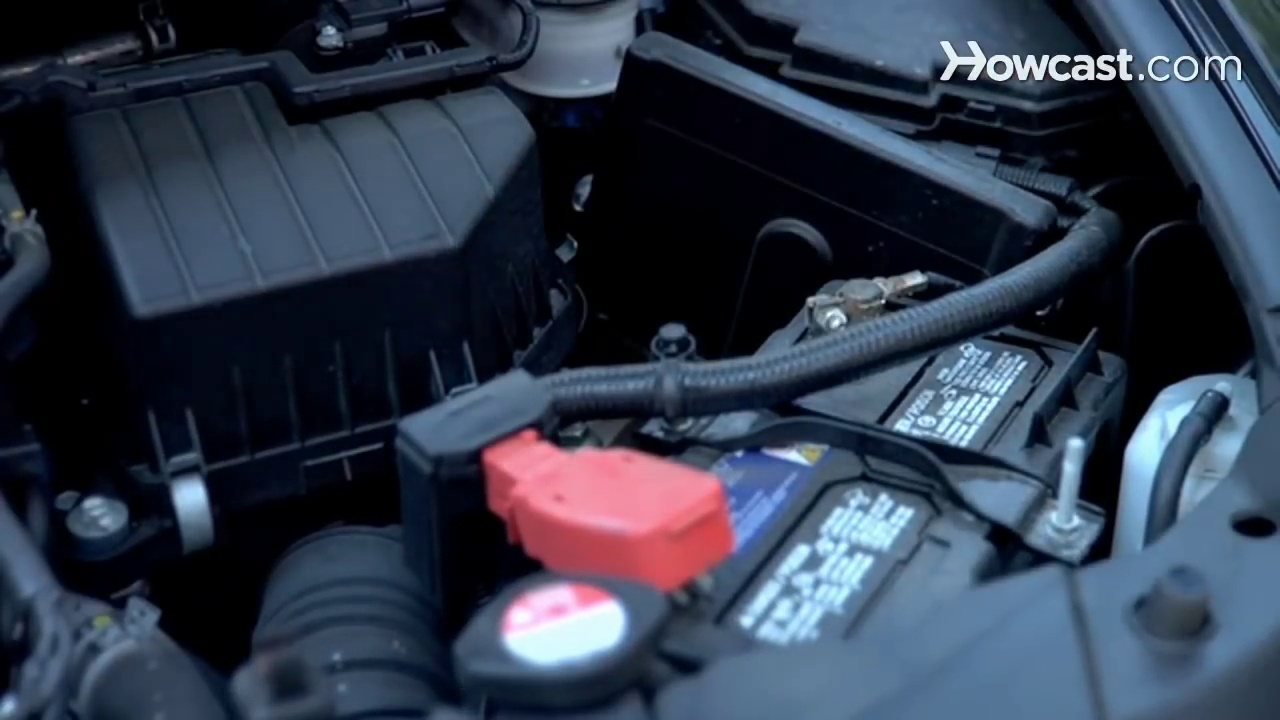battery: (514, 256, 1103, 670)
neg_connected: (777, 248, 938, 342)
pos_connected: (468, 414, 740, 593)
